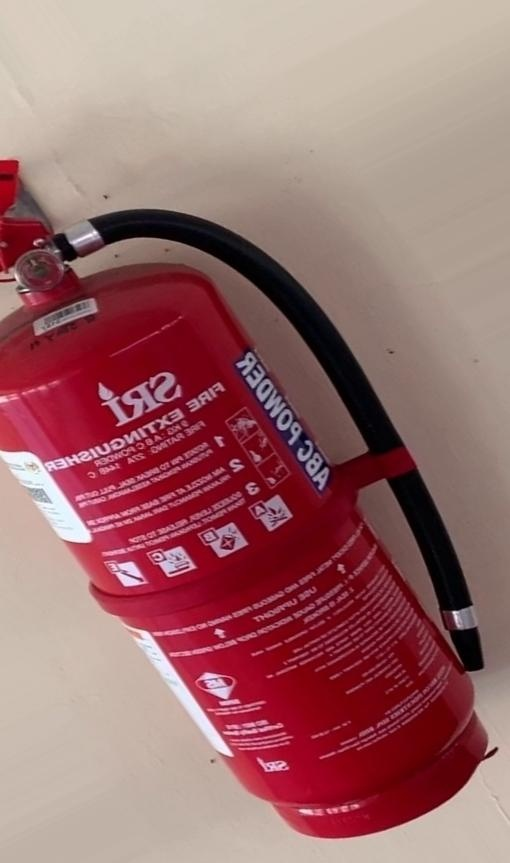fire_extinguisher: (1, 159, 498, 840)
